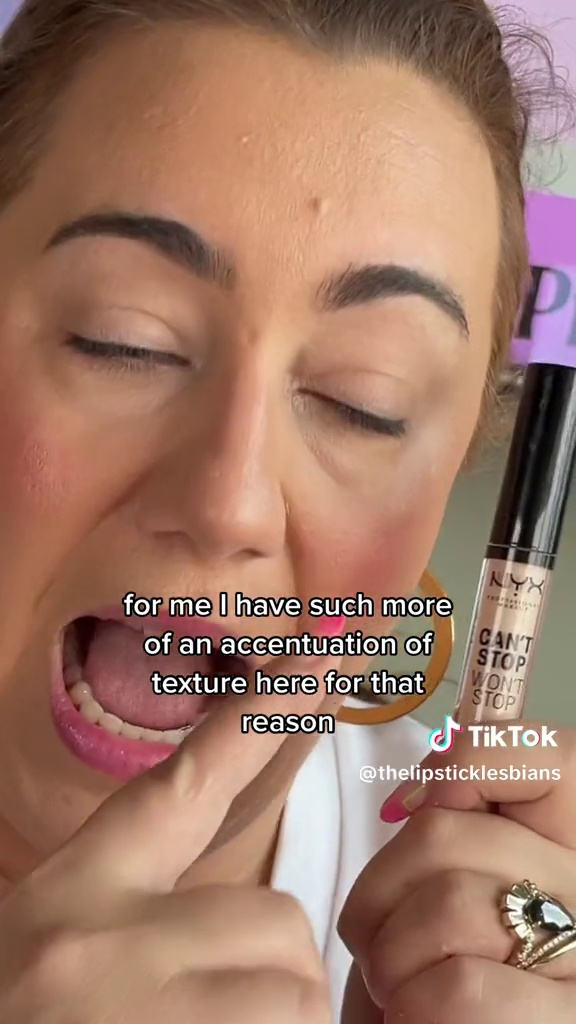train' :'yolo_data/train/images',: (423, 352, 575, 759)
